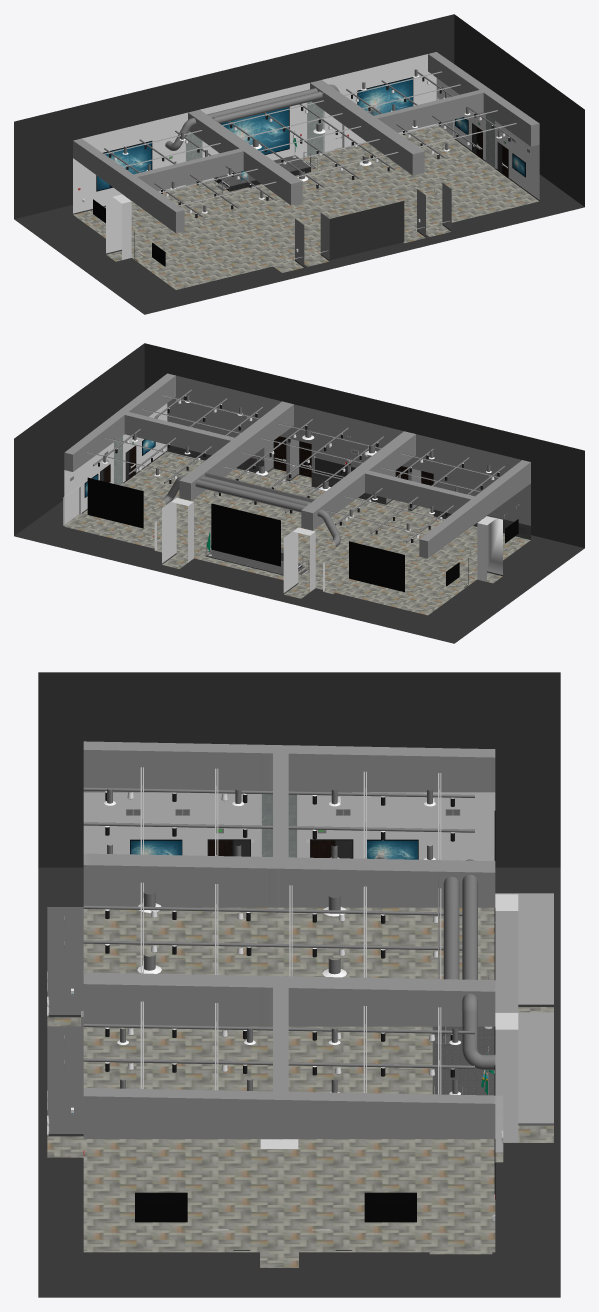
The model's file is hall.glb.
The picture shows the model from 3 angles, top to bottom: view 1: azimuth 30°, elevation 25°; view 2: azimuth 150°, elevation 25°; view 3: azimuth 270°, elevation 25°; orthographic projection. The views are drawn at different scales.
Parts seen in each view (by area): view 1: 3DGeom-7931_9, Floor_10, Roof_Support_41, WhiteWalls1_55, 3DGeom-229_8, Struts_Small_52, SoundProof_RoomDividers_50, Electrical_Pipes_25, Large_Screen_01_43, HVAC_Pipes_34, 3DGeom-222_4, Large_Screen_03_45 (+5 smaller); view 2: 3DGeom-7931_9, Floor_10, Roof_Support_41, 3DGeom-222_4, WhiteWalls1_55, Large_Screen_01_43, Struts_Small_52, Large_Screen_03_45, Large_Screen_02_44, SoundProof_RoomDividers_50, HVAC_Pipes_34, Electrical_Pipes_25 (+8 smaller); view 3: 3DGeom-7931_9, Floor_10, Roof_Support_41, WhiteWalls1_55, Electrical_Pipes_25, 3DGeom-222_4, SoundProof_RoomDividers_50, HVAC_Pipes_34, Struts_Small_52, OVH_AirVents_37, Stage_51, Medium_Screen_02_47 (+7 smaller).
Boxes of the visible parts, x1=… form: 3DGeom-7931_9: x1=14, y1=14, x2=584, y2=314; Floor_10: x1=73, y1=126, x2=538, y2=289; Roof_Support_41: x1=73, y1=52, x2=539, y2=233; WhiteWalls1_55: x1=73, y1=54, x2=539, y2=253; 3DGeom-229_8: x1=329, y1=201, x2=404, y2=259; Struts_Small_52: x1=104, y1=71, x2=516, y2=205; SoundProof_RoomDividers_50: x1=113, y1=101, x2=495, y2=259; Electrical_Pipes_25: x1=104, y1=71, x2=515, y2=217; Large_Screen_01_43: x1=220, y1=107, x2=289, y2=154; HVAC_Pipes_34: x1=165, y1=84, x2=339, y2=150; 3DGeom-222_4: x1=295, y1=182, x2=451, y2=266; Large_Screen_03_45: x1=357, y1=77, x2=413, y2=115; 3DGeom-7931_9: x1=14, y1=343, x2=584, y2=643; Floor_10: x1=63, y1=451, x2=530, y2=615; Roof_Support_41: x1=64, y1=373, x2=530, y2=558; 3DGeom-222_4: x1=167, y1=375, x2=530, y2=525; WhiteWalls1_55: x1=63, y1=403, x2=502, y2=592; Large_Screen_01_43: x1=211, y1=503, x2=280, y2=566; Struts_Small_52: x1=86, y1=394, x2=499, y2=534; Large_Screen_03_45: x1=87, y1=477, x2=143, y2=528; Large_Screen_02_44: x1=349, y1=541, x2=404, y2=592; SoundProof_RoomDividers_50: x1=113, y1=435, x2=496, y2=591; HVAC_Pipes_34: x1=161, y1=476, x2=340, y2=547; Electrical_Pipes_25: x1=93, y1=389, x2=504, y2=542; 3DGeom-7931_9: x1=38, y1=672, x2=560, y2=1297; Floor_10: x1=47, y1=907, x2=553, y2=1267; Roof_Support_41: x1=83, y1=741, x2=495, y2=1139; WhiteWalls1_55: x1=83, y1=792, x2=553, y2=1152; Electrical_Pipes_25: x1=83, y1=785, x2=474, y2=1068; 3DGeom-222_4: x1=47, y1=907, x2=83, y2=1133; SoundProof_RoomDividers_50: x1=260, y1=794, x2=518, y2=1148; HVAC_Pipes_34: x1=443, y1=859, x2=495, y2=1070; Struts_Small_52: x1=140, y1=767, x2=441, y2=1094; OVH_AirVents_37: x1=104, y1=789, x2=460, y2=1094; Stage_51: x1=432, y1=1026, x2=494, y2=1095; Medium_Screen_02_47: x1=135, y1=1192, x2=187, y2=1222.
Size of the model in its own units: 39.62 by 8.39 by 20.34.
16 materials, 8 textured.
